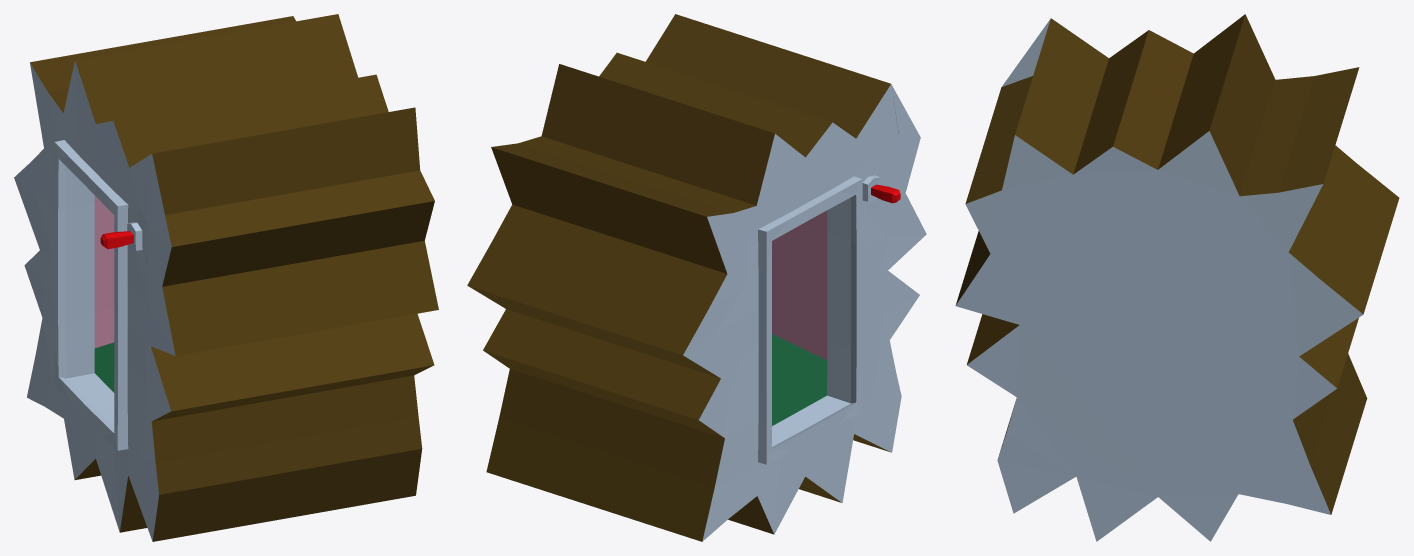
Rendered from object_15_lev3.glb.
3 renders of one model, left to right at view 1: azimuth 30°, elevation 25°; view 2: azimuth 150°, elevation 25°; view 3: azimuth 270°, elevation 25°, orthographic. The views are drawn at different scales.
Visible parts, largest first — view 1: object_15_lev3; view 2: object_15_lev3; view 3: object_15_lev3.
Boxes of the visible parts, bbox=[...] form: object_15_lev3: bbox=[14, 14, 438, 541]; object_15_lev3: bbox=[467, 14, 926, 541]; object_15_lev3: bbox=[955, 14, 1399, 541].
Bounding box in the file's own units: 7.09 × 9.21 × 8.88.
Materials: 1 (1 with a texture image).
